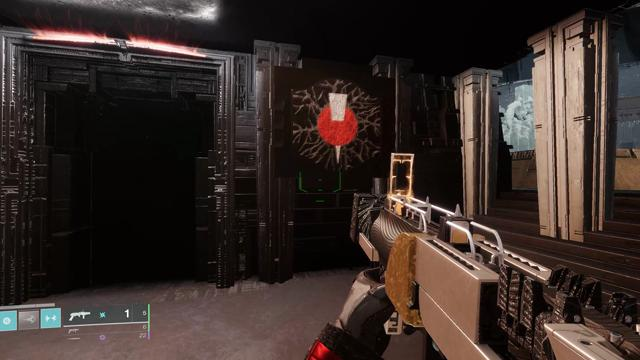kill: (293, 78, 381, 171)
